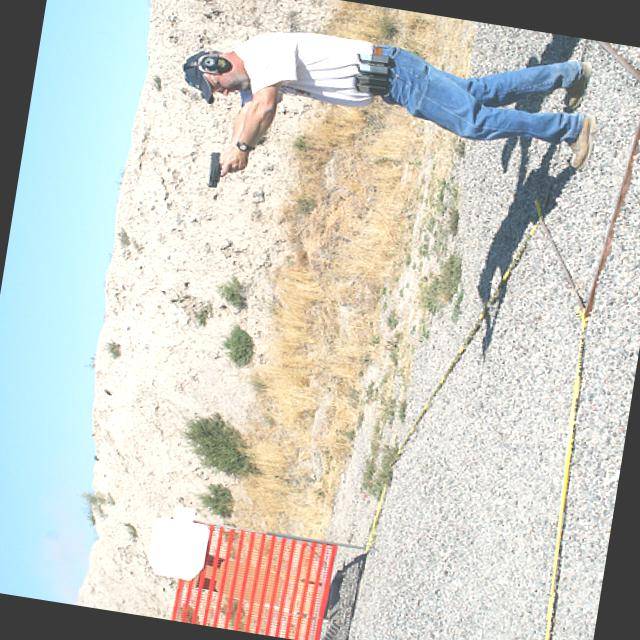handgun: (202, 151, 235, 192)
